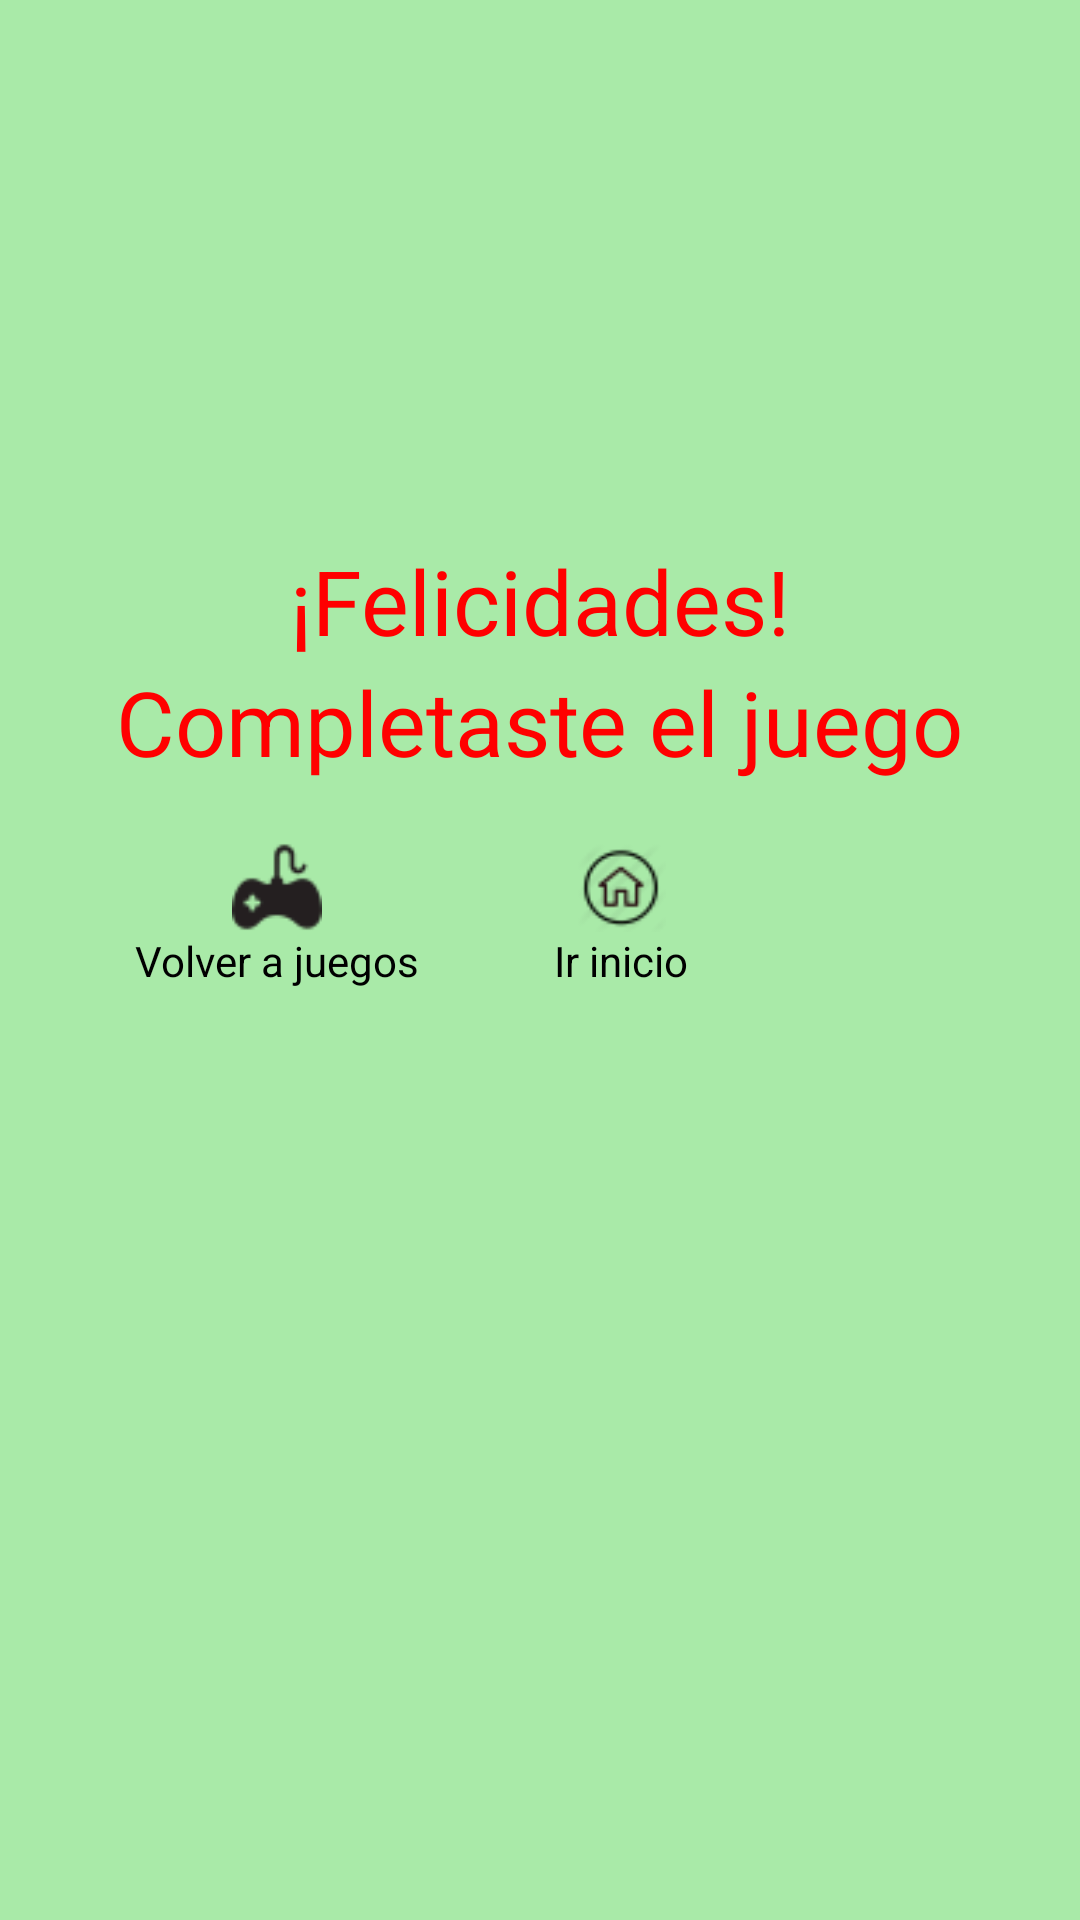

Where to tap for icons on this 1080 x 1920 app screen, as (x,y):
games: (277,887)
